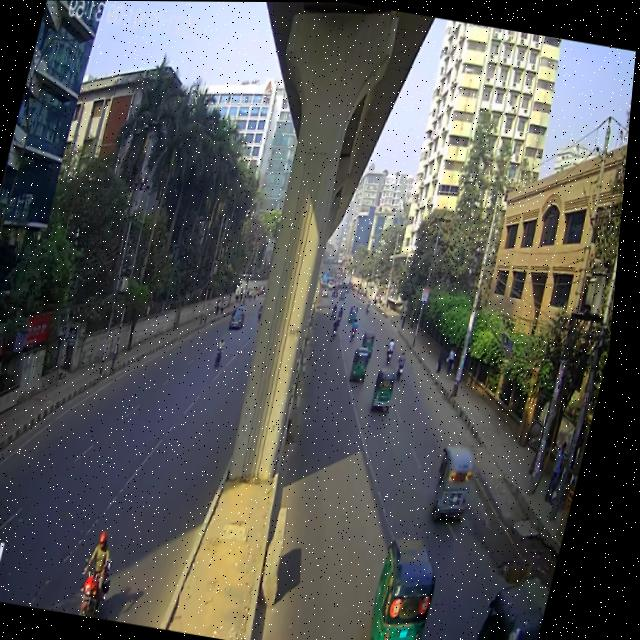cng: (373, 523, 464, 640), (475, 567, 564, 640), (432, 430, 493, 526), (367, 356, 415, 423), (353, 341, 379, 384), (352, 303, 366, 326)
